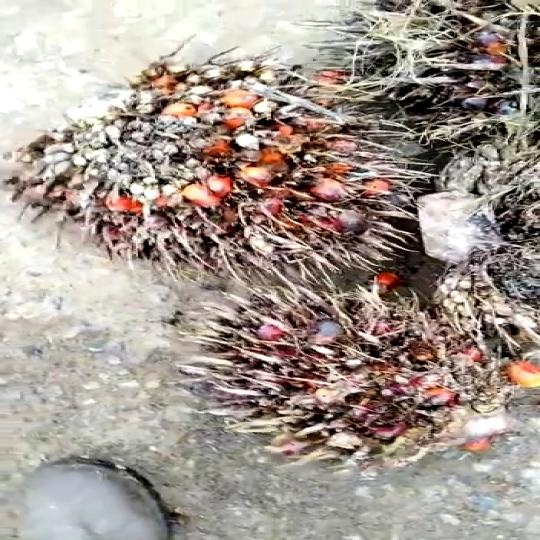terlalu masak: (0, 56, 440, 280), (185, 276, 510, 470)
